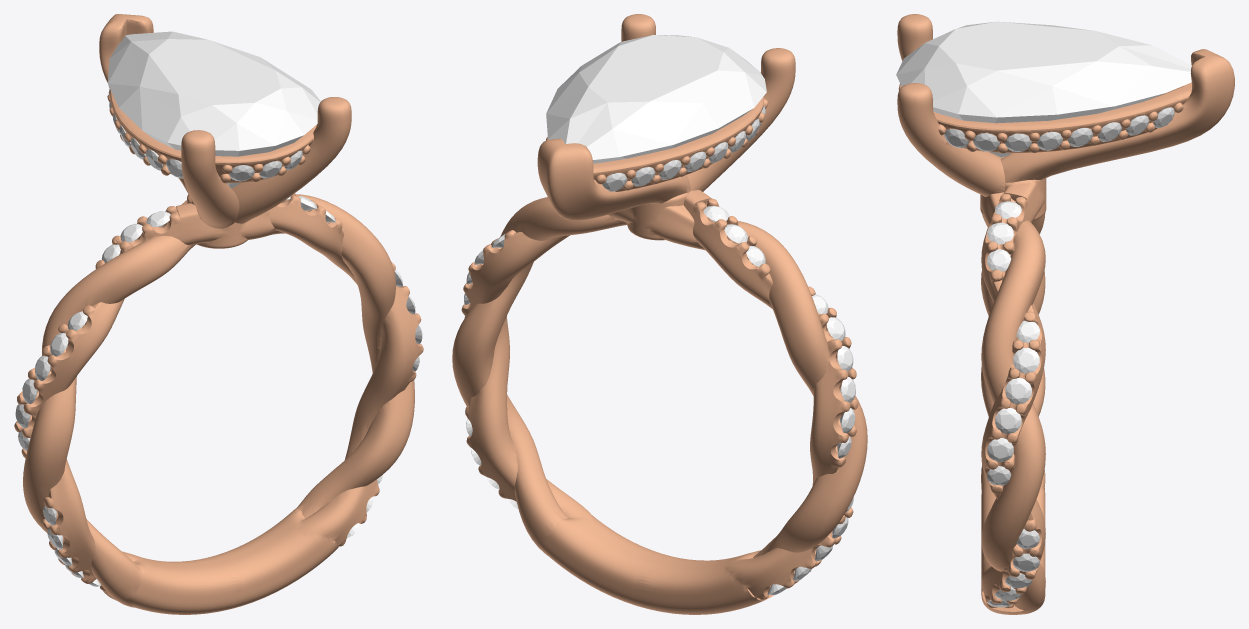
3 renders of one model, left to right at view 1: azimuth 30°, elevation 25°; view 2: azimuth 150°, elevation 25°; view 3: azimuth 270°, elevation 25°, orthographic. The views are drawn at different scales.
Visible parts, largest first — view 1: object 49, PART0001; view 2: object 49, PART0001; view 3: object 49, PART0001 (×6).
Part boxes in pixels (<box>): object 49: <box>14,14,423,614</box>; PART0001: <box>107,31,320,188</box>; object 49: <box>452,14,867,614</box>; PART0001: <box>546,35,766,163</box>; object 49: <box>897,14,1234,614</box>; PART0001 (×6): <box>896,21,1191,461</box>.
Bounding box in the file's own units: 2.24 × 2.89 × 1.62.
